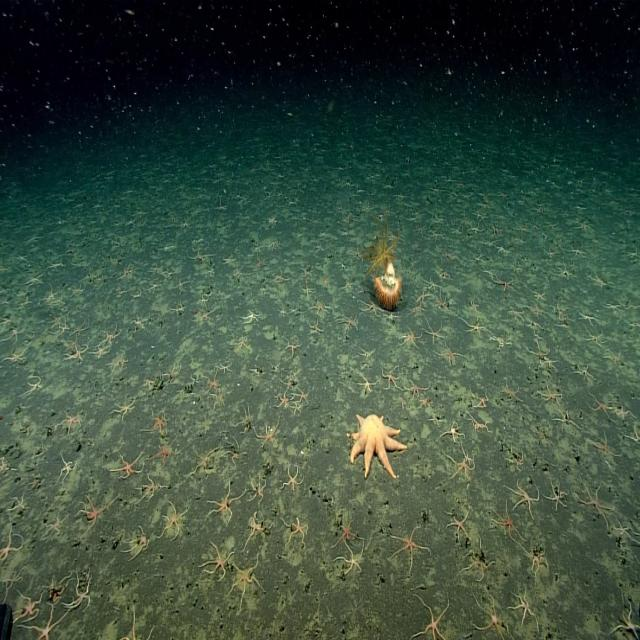brittle-stars: (472, 594, 507, 639), (390, 526, 426, 569), (411, 601, 448, 640), (231, 558, 260, 604), (208, 482, 240, 523), (492, 502, 520, 543), (580, 484, 610, 522), (200, 545, 232, 580), (510, 479, 540, 516), (511, 589, 538, 630), (15, 586, 42, 624), (464, 540, 491, 578), (337, 540, 364, 576), (36, 604, 62, 640), (161, 502, 186, 538), (113, 450, 142, 481), (69, 574, 93, 610), (615, 605, 640, 639), (524, 547, 548, 580), (446, 456, 476, 482), (449, 509, 471, 544), (78, 498, 100, 532), (0, 532, 24, 562), (137, 476, 162, 502), (125, 528, 148, 556), (157, 435, 179, 464), (286, 516, 308, 544), (546, 480, 566, 510), (588, 393, 611, 418), (282, 465, 304, 491), (147, 410, 168, 437), (593, 433, 615, 458), (246, 515, 264, 545), (250, 474, 268, 504), (258, 421, 278, 448), (112, 399, 136, 421), (437, 345, 462, 366), (45, 513, 66, 537), (424, 317, 444, 342), (538, 381, 560, 403), (65, 342, 88, 363), (236, 405, 252, 435), (444, 419, 464, 442), (111, 350, 128, 375), (61, 412, 81, 433), (529, 339, 551, 358), (469, 414, 492, 432), (382, 366, 400, 389), (11, 492, 28, 516), (164, 362, 181, 386), (506, 448, 524, 470), (59, 455, 73, 483), (26, 374, 42, 398), (464, 318, 484, 337), (6, 347, 27, 365), (402, 327, 420, 348), (362, 299, 382, 317), (103, 326, 121, 346), (472, 388, 489, 409), (406, 380, 425, 398), (502, 382, 520, 400), (339, 521, 355, 541), (495, 275, 513, 292), (605, 348, 622, 366), (339, 314, 358, 330), (358, 376, 374, 394), (8, 569, 23, 588), (578, 311, 597, 326), (490, 334, 510, 348), (206, 370, 219, 391), (586, 332, 603, 348), (92, 342, 109, 358), (557, 263, 572, 281), (275, 391, 290, 409), (272, 268, 287, 286), (576, 364, 592, 380), (196, 308, 212, 324), (45, 285, 59, 303), (235, 334, 248, 353), (133, 313, 146, 332), (556, 410, 572, 425), (284, 340, 300, 355), (244, 310, 260, 325), (616, 521, 630, 538), (73, 320, 87, 337), (468, 295, 480, 314), (554, 302, 568, 318), (296, 388, 310, 404), (176, 277, 189, 294), (49, 312, 62, 329), (462, 446, 473, 466), (509, 307, 524, 321), (312, 300, 327, 314), (542, 357, 558, 370), (425, 277, 439, 291), (605, 301, 620, 314), (616, 404, 628, 420), (529, 304, 544, 316), (571, 247, 587, 258), (384, 311, 400, 322), (302, 285, 318, 296), (223, 254, 236, 267), (410, 304, 424, 316), (291, 401, 303, 415), (121, 264, 133, 278), (149, 280, 161, 293), (450, 224, 462, 237), (469, 223, 483, 234), (217, 362, 232, 372), (150, 262, 161, 275), (415, 292, 429, 302), (234, 266, 243, 281), (283, 378, 294, 390), (199, 294, 208, 308), (384, 180, 395, 191), (534, 292, 546, 302), (440, 270, 450, 280), (316, 242, 324, 254)
